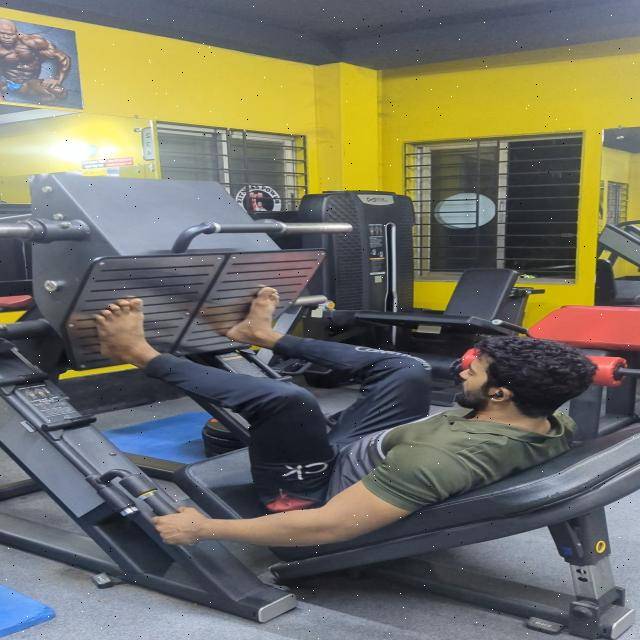Normal_LegPress: (0, 233, 640, 640)
